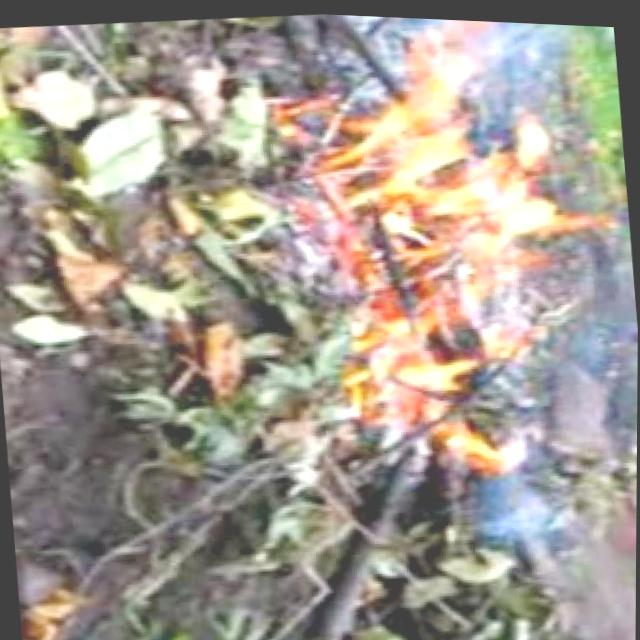Fire: (248, 9, 640, 491)
